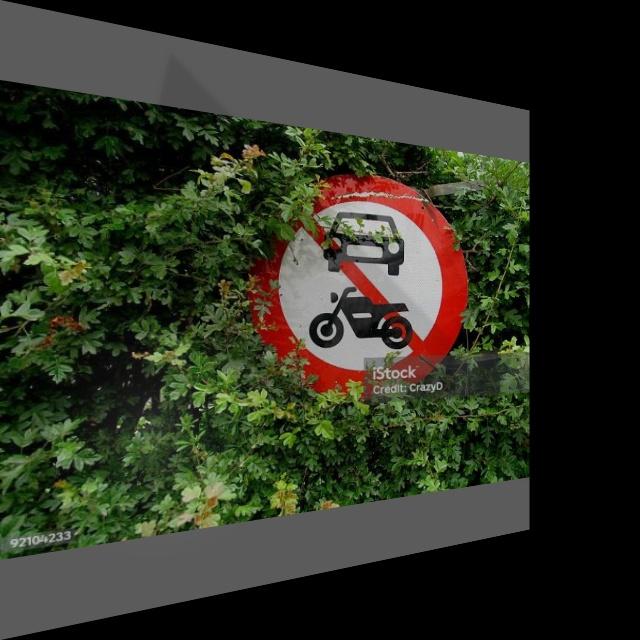All_Motor_Vehicles_Prohibited: (250, 160, 467, 410)
